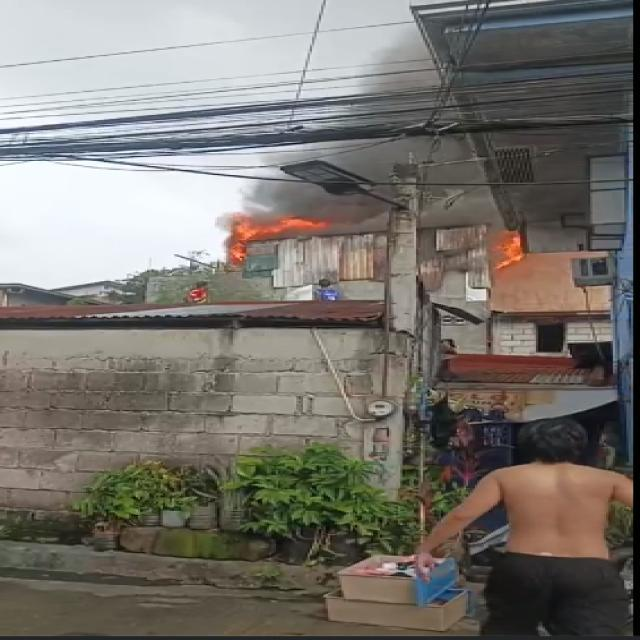Fire: (225, 211, 326, 266), (486, 230, 524, 272)
Smoke: (237, 124, 503, 228)
